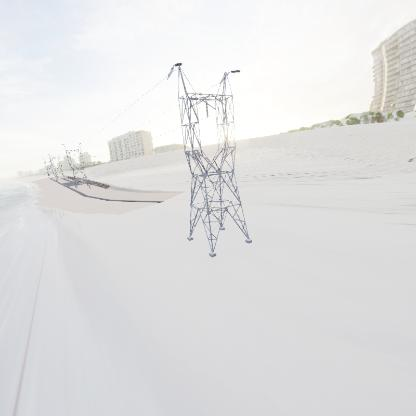tower: (168, 61, 251, 260), (59, 141, 95, 193)
